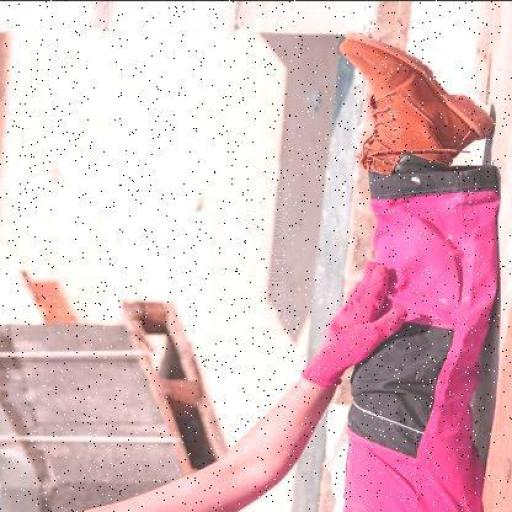safety_shoe: (323, 30, 498, 180)
